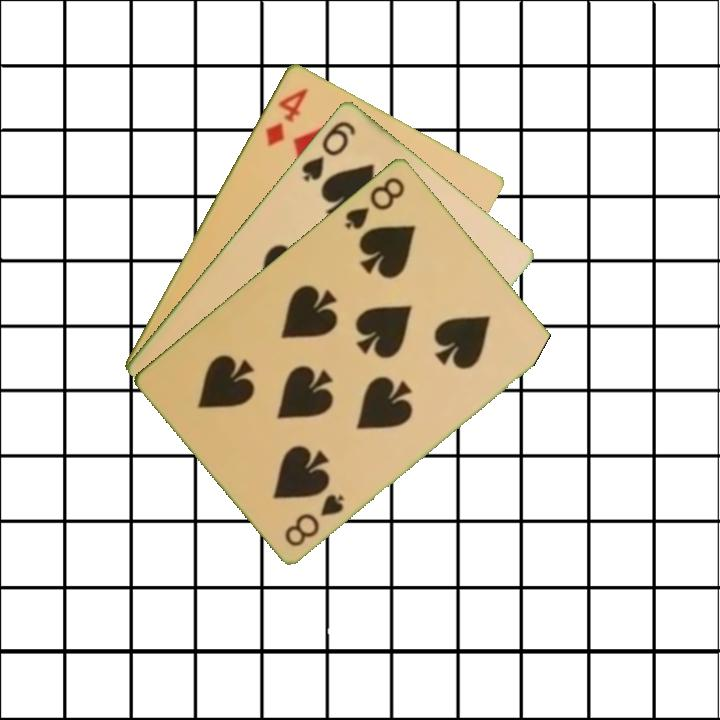4d: (261, 83, 311, 149)
6s: (297, 116, 359, 184)
8s: (281, 489, 348, 549), (341, 173, 408, 232)
